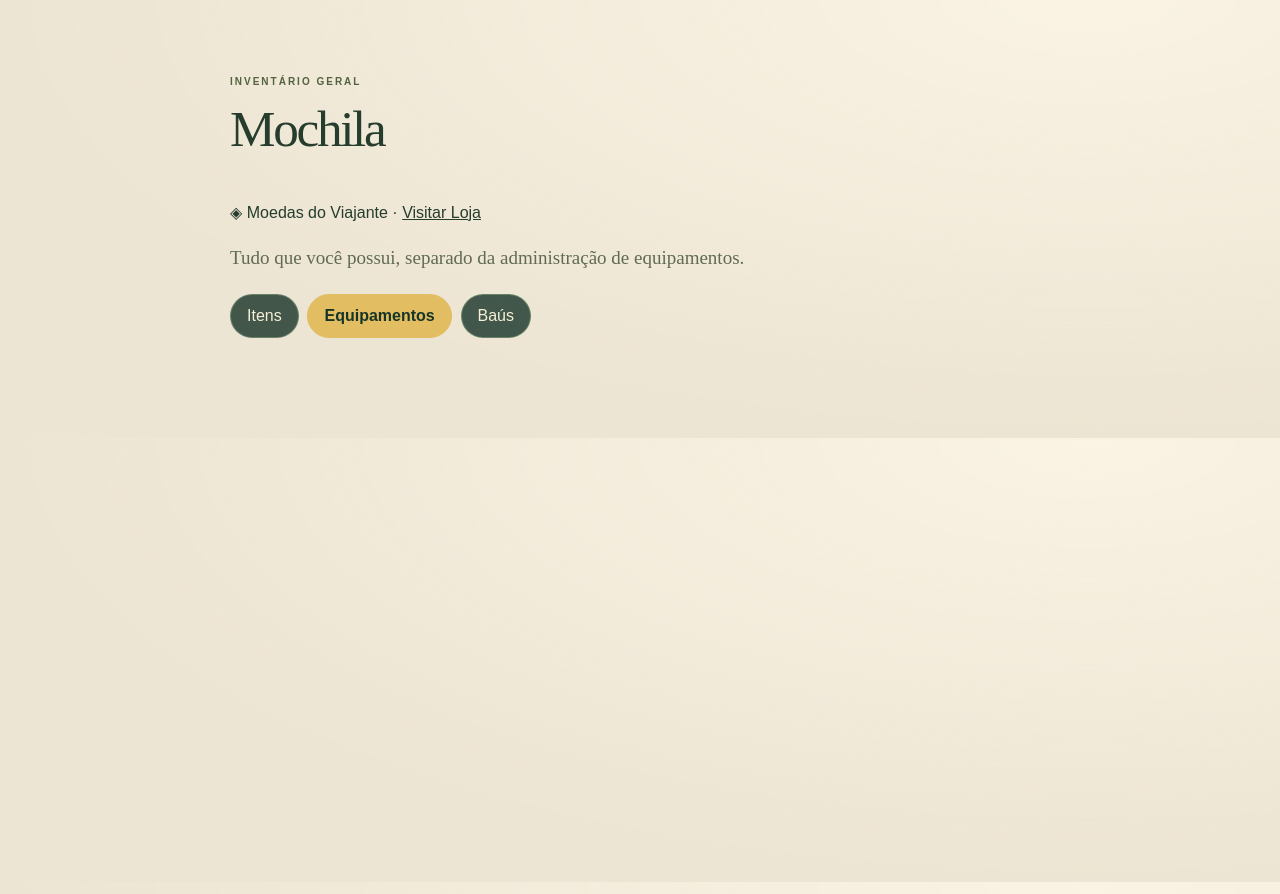
Scenario: Mochila keeps existing tabs, empty state and centralized shop prices
The width and height of the screenshot is (1280, 894).
Click the tab "Baús" at [496, 316], box [460,294,531,338]
(page scrolled)
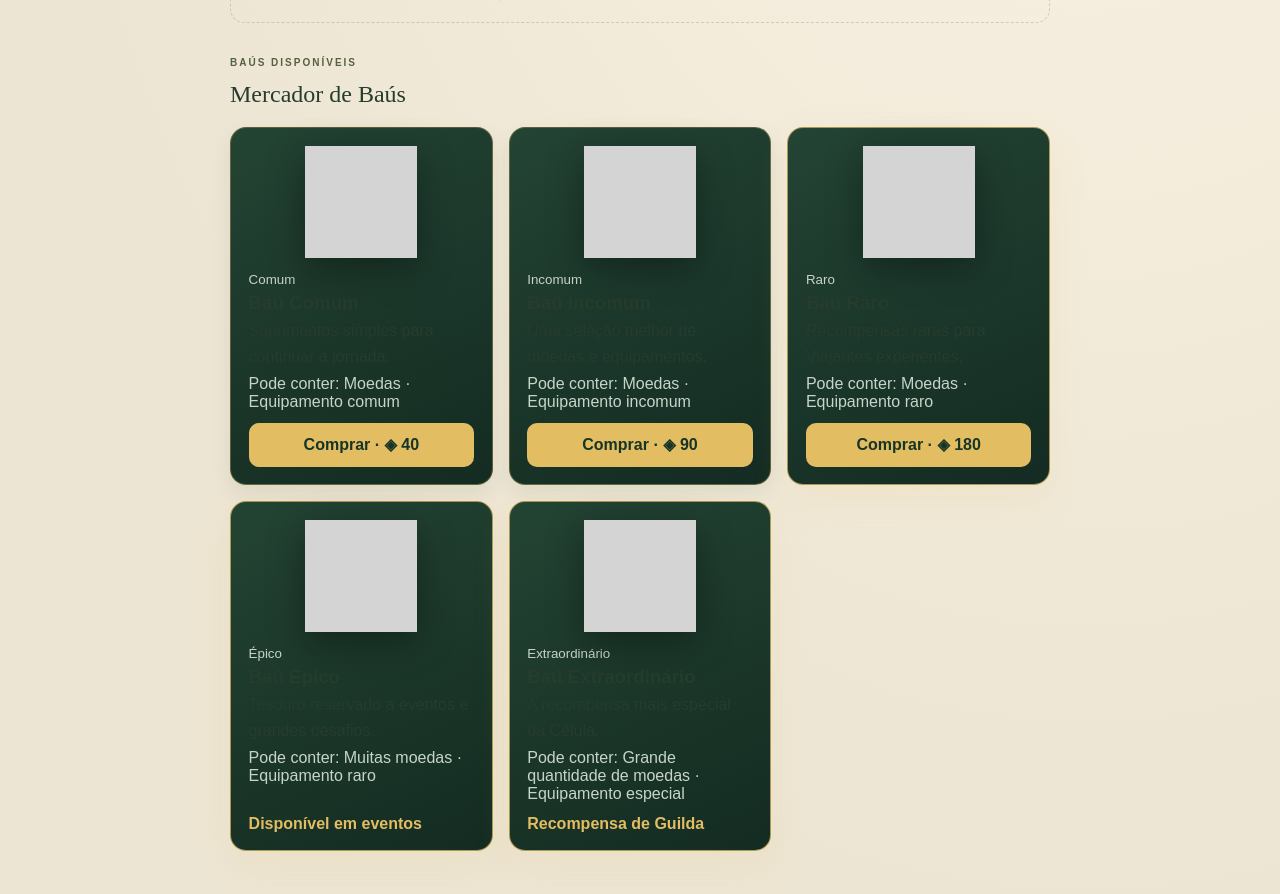
Expected: the button "Comprar · ◈ 40" is shown, [249,423,474,467]
